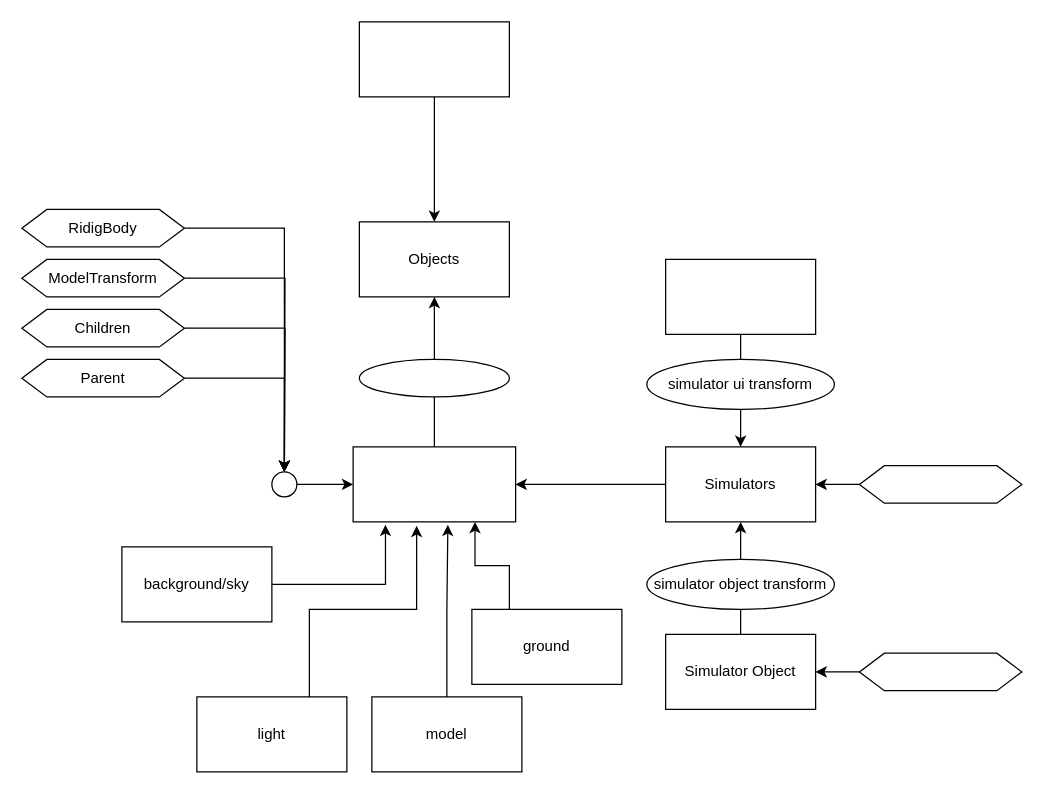
Some shapes in this 1044 by 794 pixel diagram are drawn without their labels. The box of each missing label's shape, as (x1, y1, x2, y2) in pixels:
model transform: (358, 358, 509, 397)
SCENE: (358, 21, 509, 97)
SimObjectTransform: (858, 652, 1022, 691)
Simulator UI object: (664, 258, 816, 334)
UI_Transform: (858, 464, 1022, 503)
World Object: (352, 446, 516, 522)
